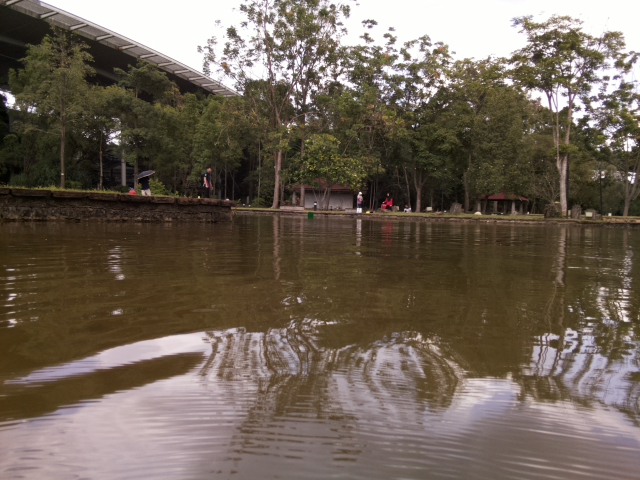obstacle: (308, 212, 315, 219)
